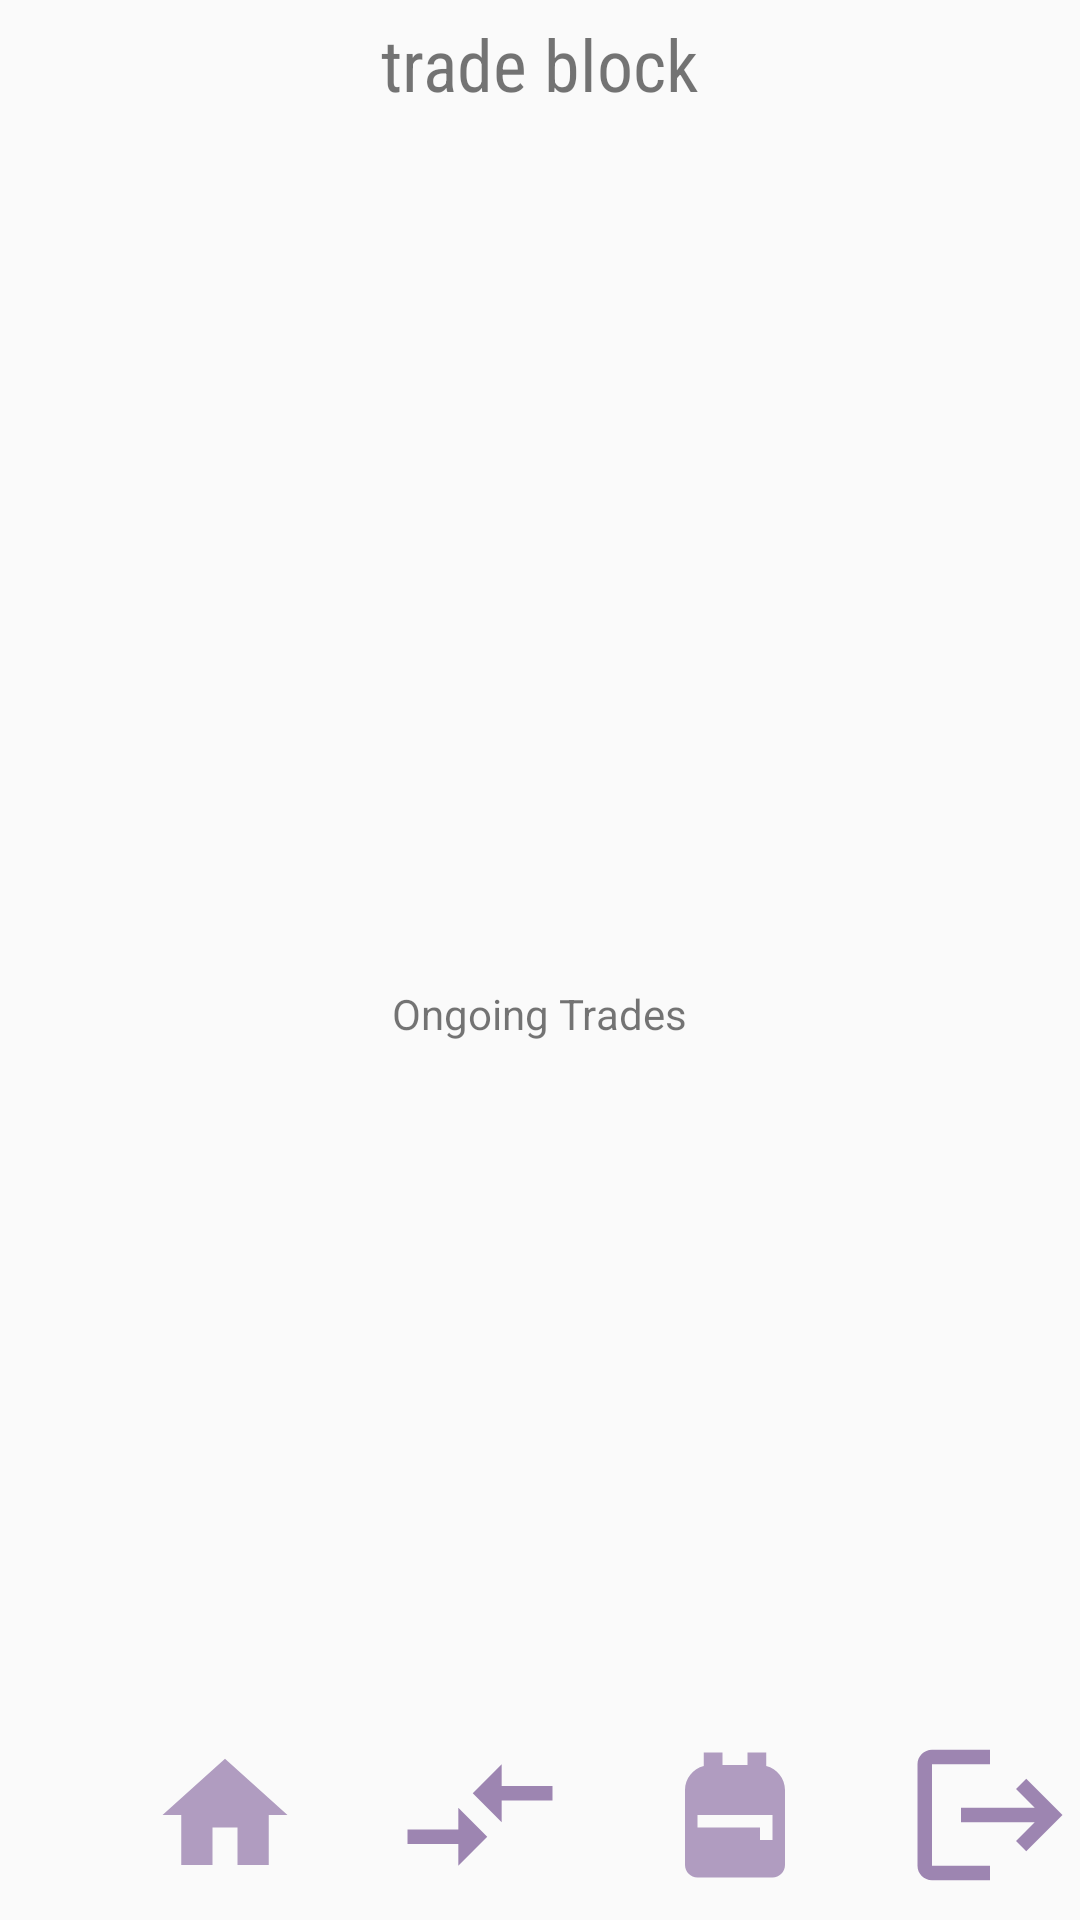

Where icons sit on this 1080x1920 app screen, as box=[x1, y1, x2, y2]:
Home Button: box=[163, 1759, 287, 1865]
Inventory Button: box=[685, 1752, 785, 1878]
Trade Block Button: box=[407, 1764, 553, 1866]
